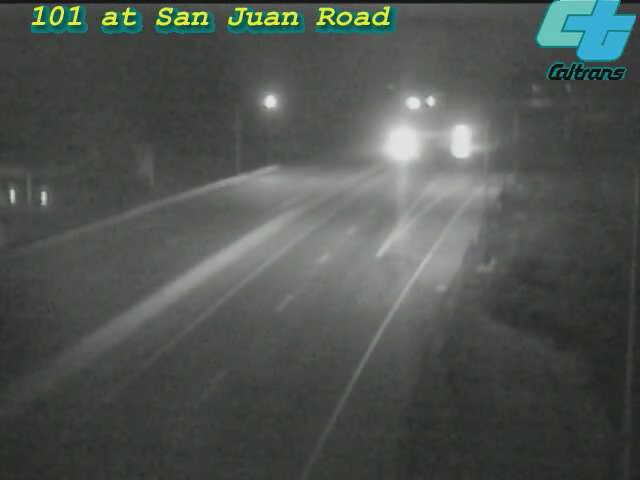vehicle: (369, 117, 419, 167), (438, 106, 488, 156), (436, 125, 486, 175)
